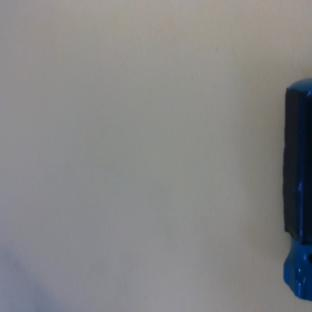part_2_bad: (283, 78, 312, 300)
